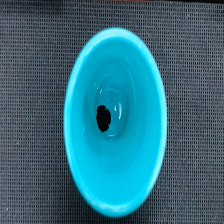hole: (96, 104, 110, 131)
